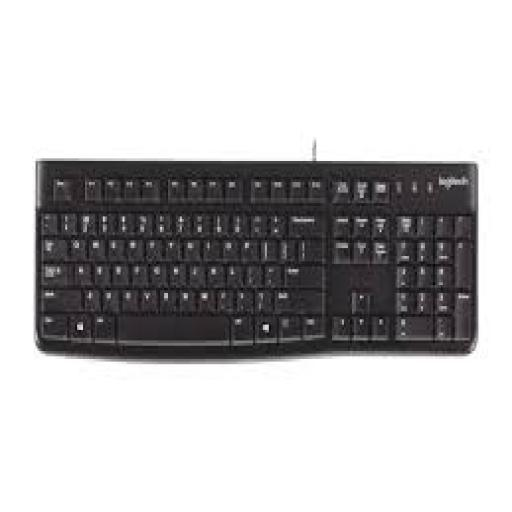keyboard: (34, 161, 476, 359)
